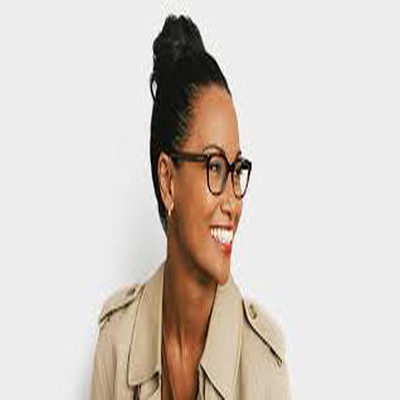eywear: (161, 129, 290, 201)
